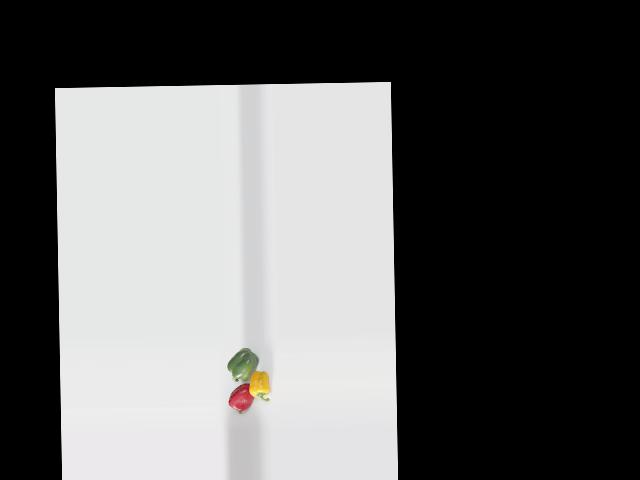bell_pepper: (244, 370, 273, 402)
